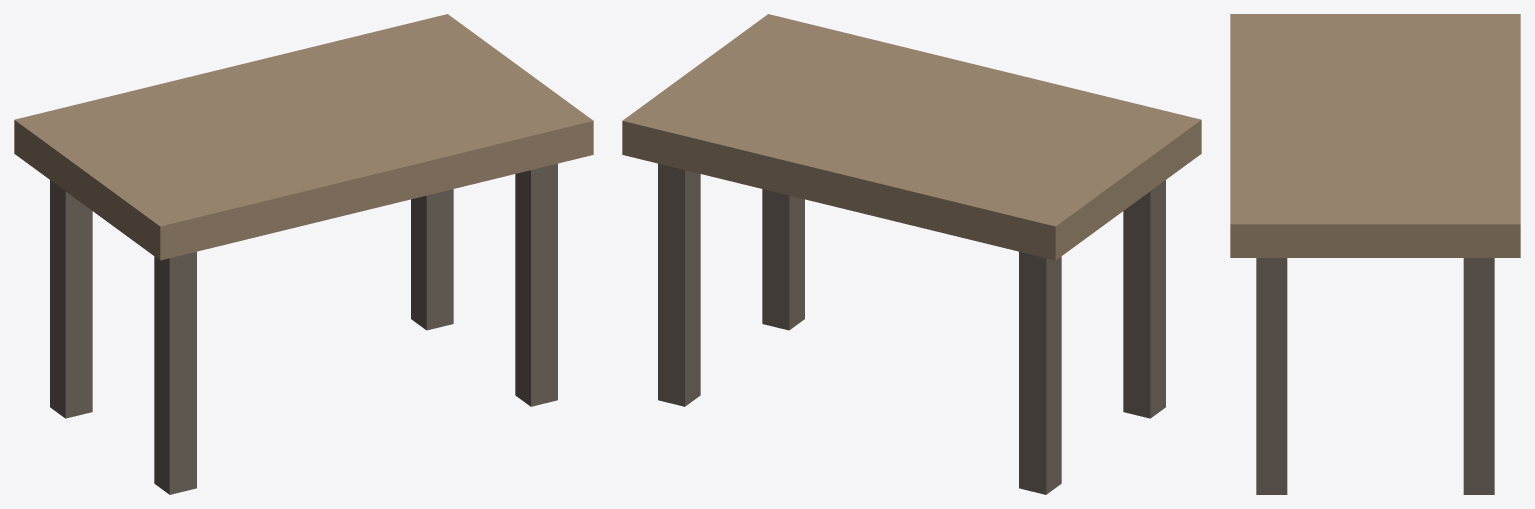
Rendered from dining_table_apartment.glb.
The picture shows the model from 3 angles, left to right: view 1: azimuth 30°, elevation 25°; view 2: azimuth 150°, elevation 25°; view 3: azimuth 270°, elevation 25°; orthographic projection.
Visible parts, largest first — view 1: body; view 2: body; view 3: body.
Part boxes in pixels (box(x1,y1,x2,y2)): body: box(14, 14, 593, 494); body: box(622, 14, 1201, 494); body: box(1230, 14, 1520, 494).
Bounding box in the file's own units: 1.2 × 0.75 × 0.7.
